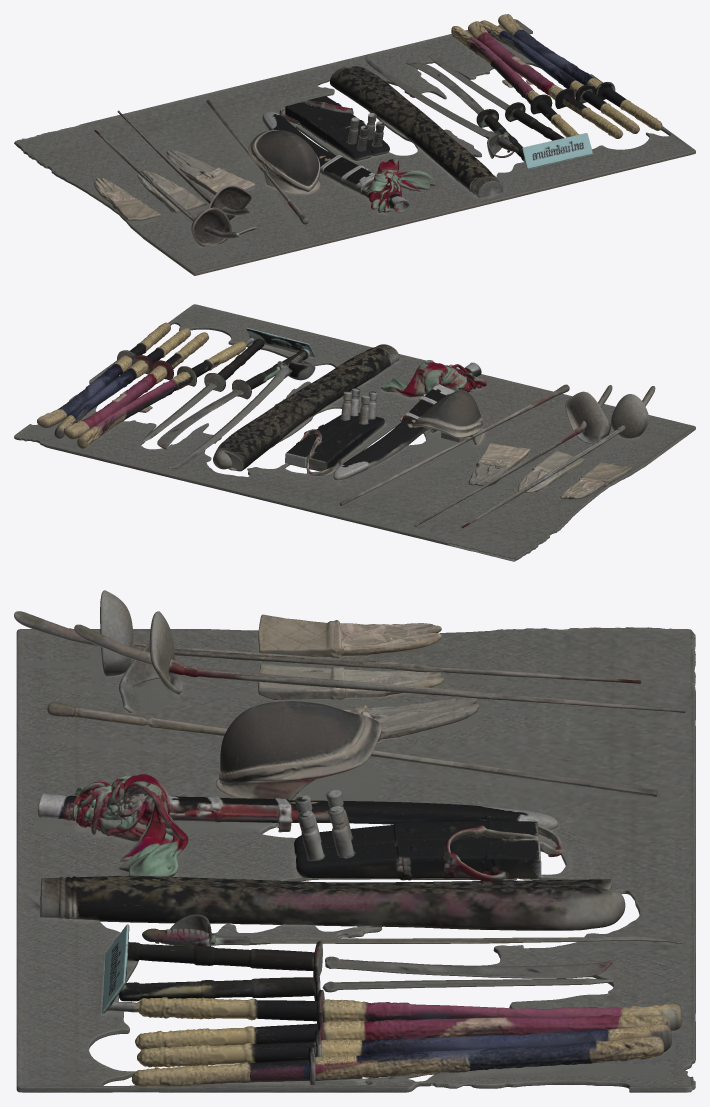
The model's file is sword.glb.
3 views of the same model, one above another, from view 1: azimuth 30°, elevation 25°; view 2: azimuth 150°, elevation 25°; view 3: azimuth 270°, elevation 25° (orthographic). The views are drawn at different scales.
Bounding box in the file's own units: 1.91 × 0.1703 × 1.2.
1 material, 1 textured.
